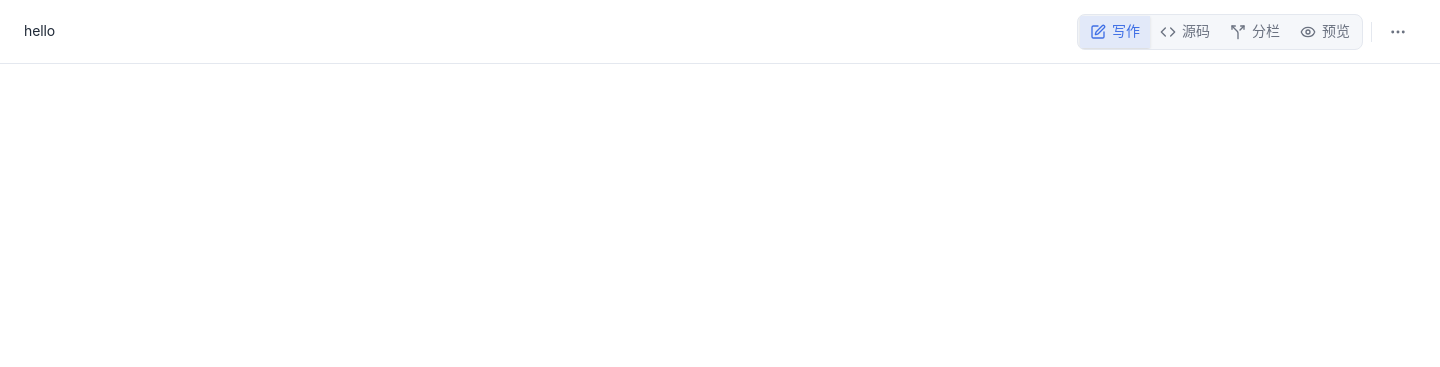
it: EditorToolbar / 更多菜单 › 低频文件操作收进「更多」菜单
Expected: the text "导出 PDF" is not shown
Expected: the text "转换为富文本" is not shown
Click the button named "更多". click: (1398, 32)
box: [1380,14,1416,50]
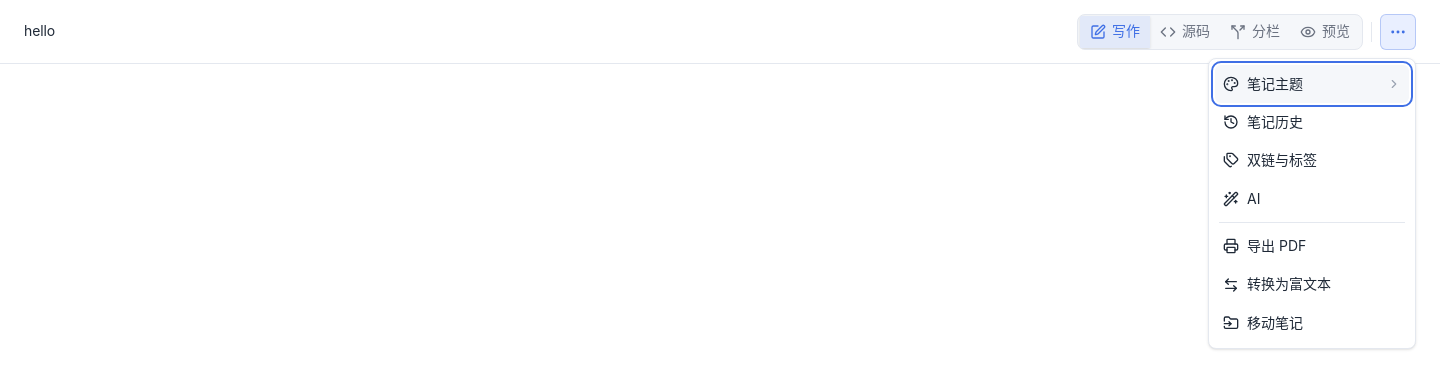
Result: the menu item "导出 PDF" is shown at [1215,227,1409,266]
Result: the menu item "转换为富文本" is shown at [1215,266,1409,304]
Result: the menu item "移动笔记" is shown at [1215,304,1409,342]
